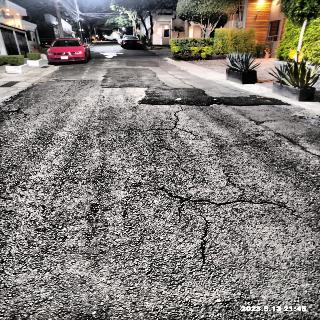crack: (155, 179, 316, 270), (42, 190, 82, 244), (166, 111, 220, 145)
